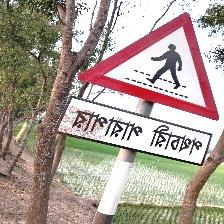Pedestrian-crossing: (57, 9, 220, 168)
